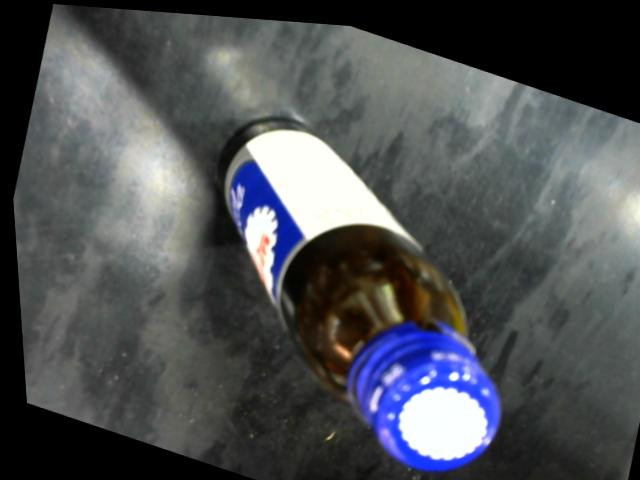glass: (207, 104, 499, 470)
